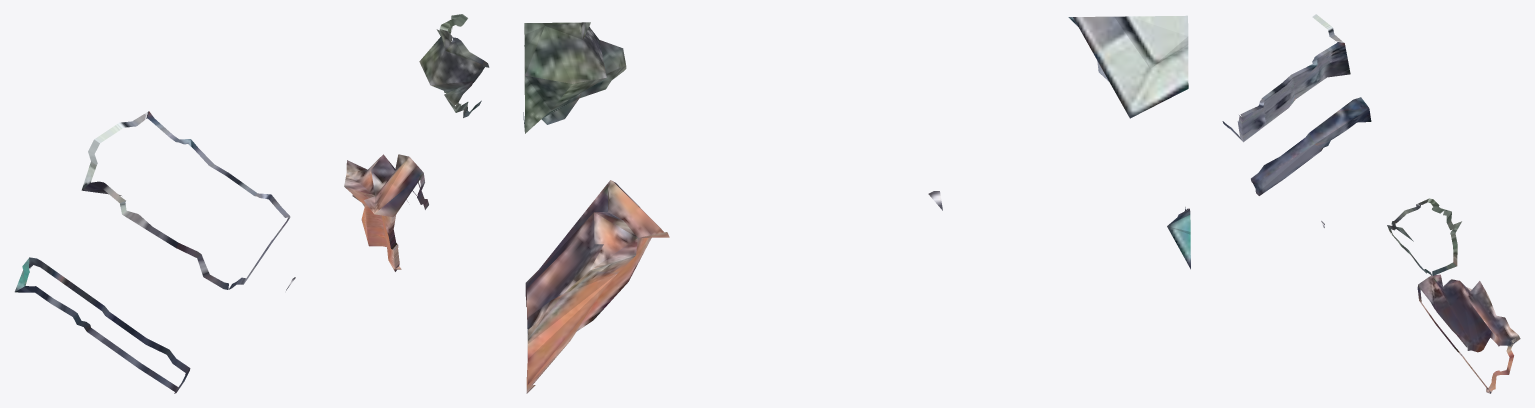
3 renders of one model, left to right at view 1: azimuth 30°, elevation 25°; view 2: azimuth 150°, elevation 25°; view 3: azimuth 270°, elevation 25°, orthographic. The views are drawn at different scales.
Bounding box in the file's own units: 37.42 × 22.89 × 26.6.
Materials: 1 (1 with a texture image).
